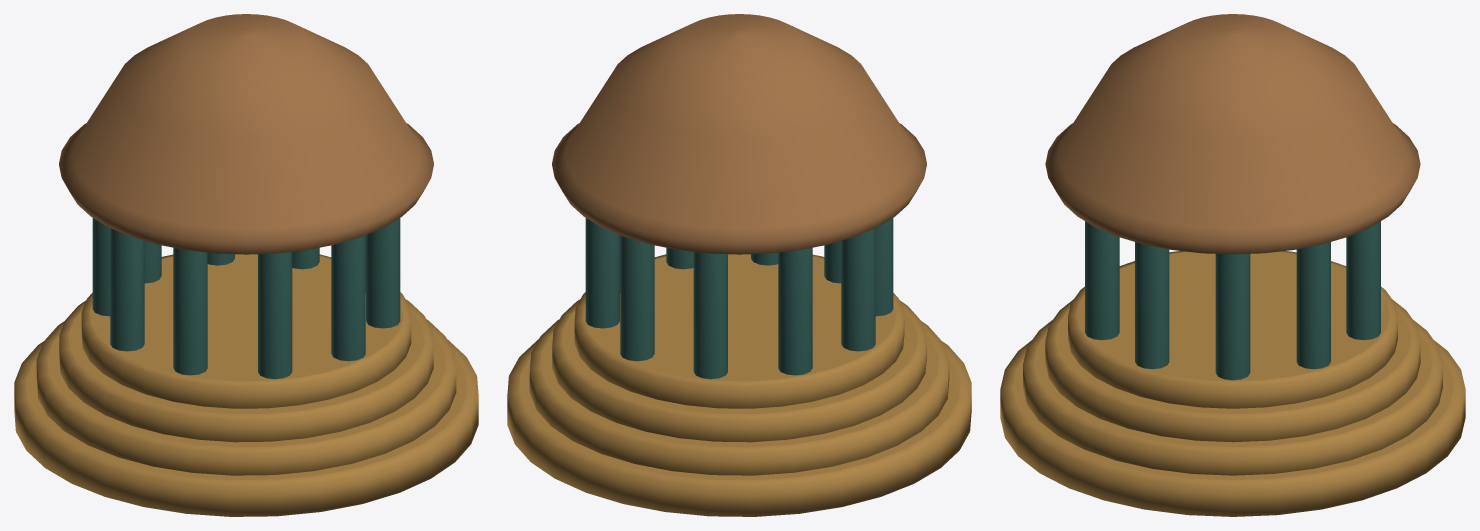
Rendered from kharon_cistern.glb.
The picture shows the model from 3 angles, left to right: view 1: azimuth 30°, elevation 25°; view 2: azimuth 150°, elevation 25°; view 3: azimuth 270°, elevation 25°; orthographic projection.
Parts seen in each view (by area): view 1: kharon_cistern; view 2: kharon_cistern; view 3: kharon_cistern.
Boxes of the visible parts, x1,y1,x2,y2 form: kharon_cistern: [14, 14, 478, 516]; kharon_cistern: [507, 14, 971, 516]; kharon_cistern: [1000, 14, 1465, 516].
Size of the model in its own units: 17.6 by 16.2 by 17.6.
